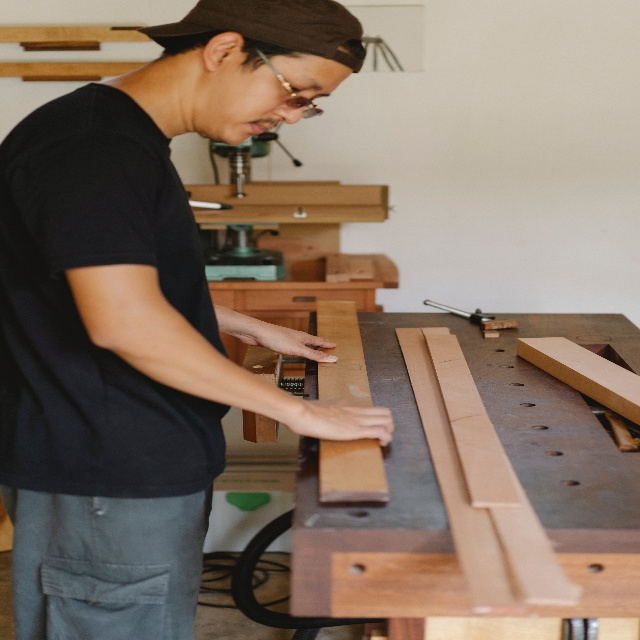Gafas: (255, 48, 324, 120)
Sin_guantes: (285, 398, 394, 447), (240, 320, 338, 363)
